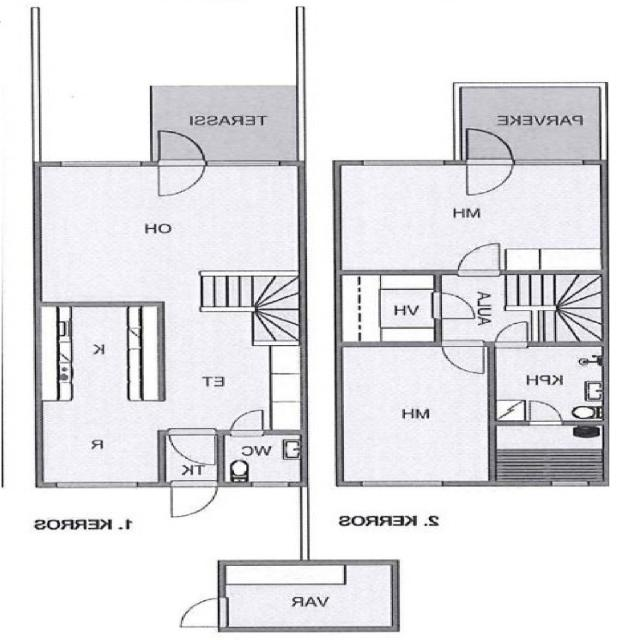door: (158, 160, 204, 198), (170, 482, 217, 519), (466, 160, 513, 197), (466, 128, 513, 165), (158, 128, 204, 165), (169, 429, 215, 466), (458, 240, 501, 274), (178, 598, 226, 626), (443, 342, 483, 375), (434, 292, 480, 319), (529, 398, 563, 426), (496, 319, 528, 347), (231, 407, 262, 434)
